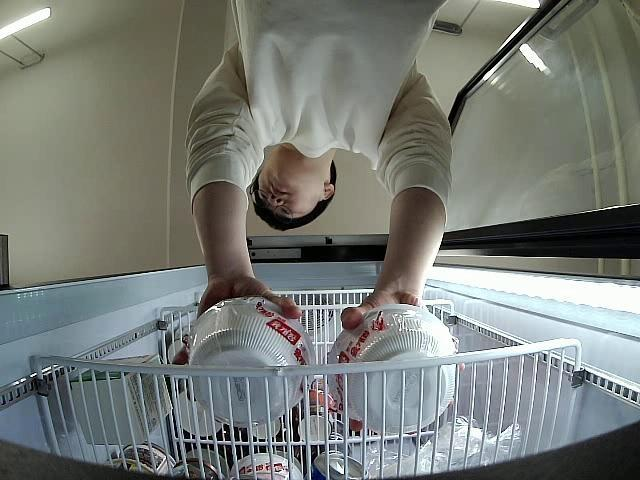09_yukGaeJang: (328, 302, 456, 434), (193, 298, 310, 426)
